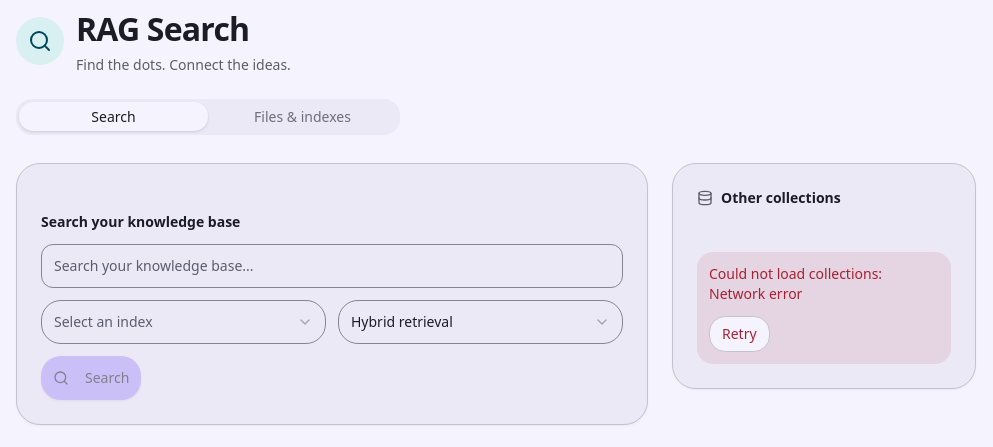
Test: RAG Page › shows a retryable collection loading error instead of an empty state
This screenshot has width=993, height=447.
Expected: the message shows "Could not load collections: Network error", [697, 252, 951, 364]
What coordinates should you click on to do the following:
click the button "Retry"
I would click on:
 (739, 334)
Its box is [709, 316, 770, 352].
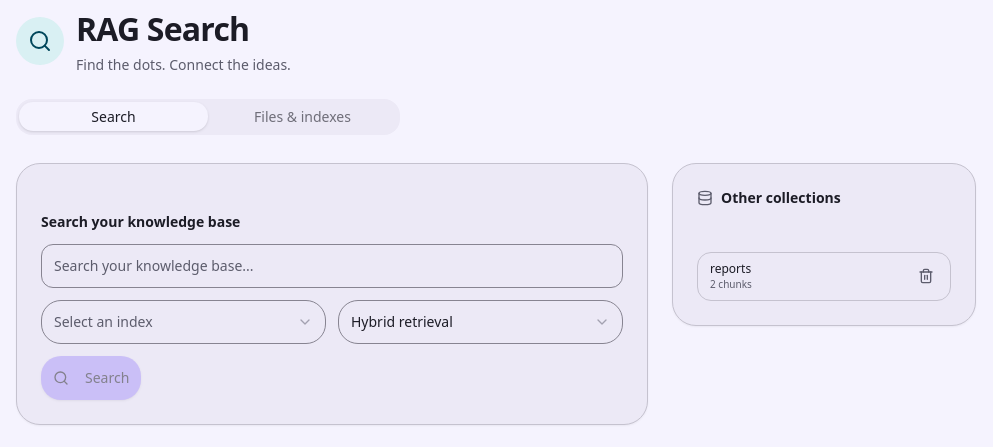
What coordinates should you click on to do the following:
click the dropdown named "Search index"
I would click on:
 (103, 321)
Its box is [41, 300, 326, 344].
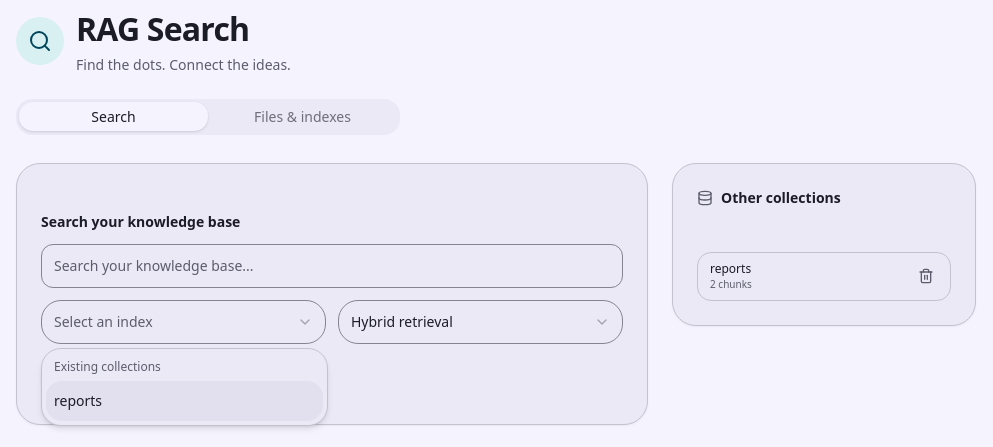
Result: the option "reports" is shown at [46, 381, 323, 421]
